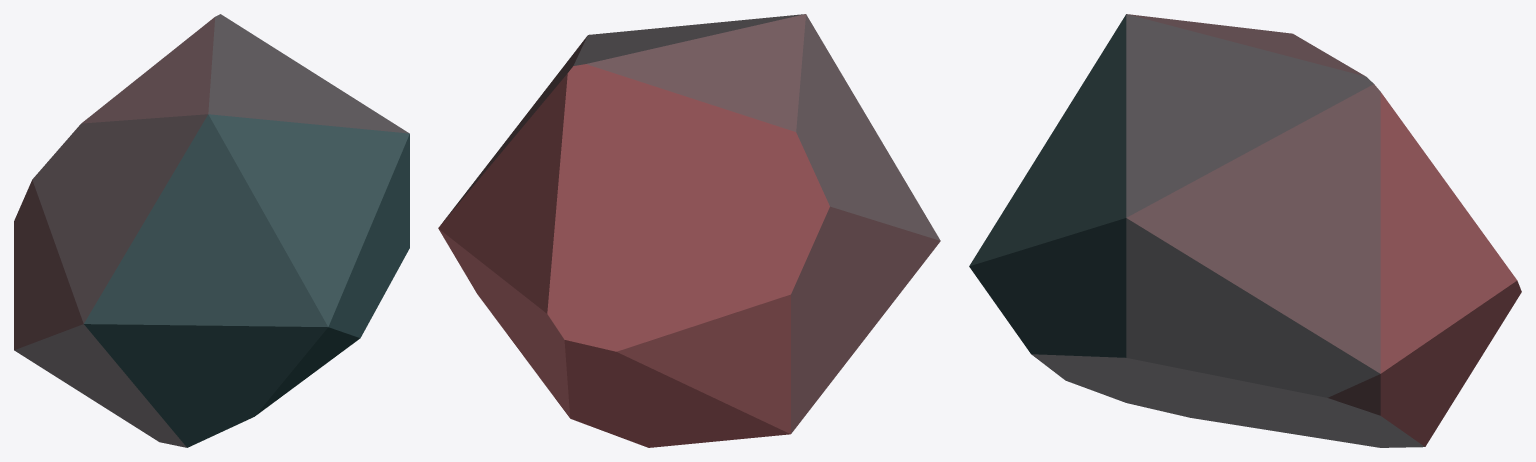
The model's file is gemstone_anim_10_neg5_10.glb.
The picture shows the model from 3 angles, left to right: view 1: azimuth 30°, elevation 25°; view 2: azimuth 150°, elevation 25°; view 3: azimuth 270°, elevation 25°; orthographic projection. The views are drawn at different scales.
Parts seen in each view (by area): view 1: gemstone_anim_10_neg5_10; view 2: gemstone_anim_10_neg5_10; view 3: gemstone_anim_10_neg5_10.
Boxes of the visible parts, bbox=[...] form: gemstone_anim_10_neg5_10: bbox=[14, 14, 409, 447]; gemstone_anim_10_neg5_10: bbox=[438, 14, 940, 447]; gemstone_anim_10_neg5_10: bbox=[969, 14, 1521, 447].
Bounding box in the file's own units: 1893 × 1714 × 2058.
